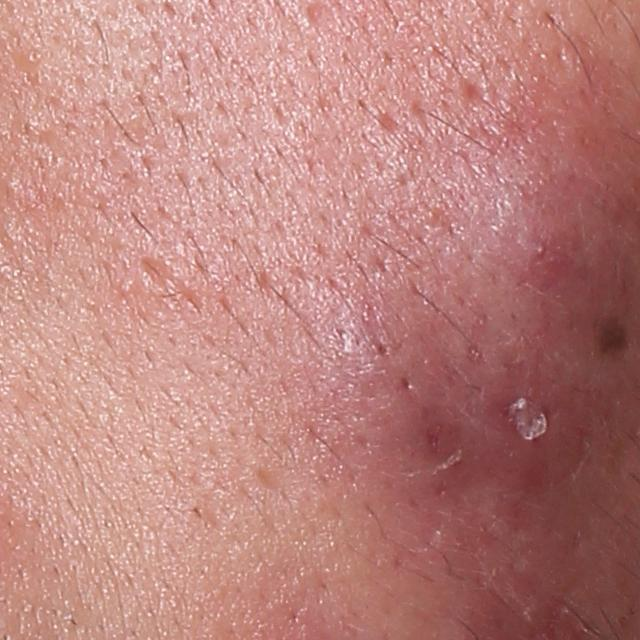atrophic_scar: (136, 254, 183, 301), (255, 463, 292, 494), (460, 74, 491, 108), (375, 107, 406, 135)
nevus: (596, 317, 634, 353)
